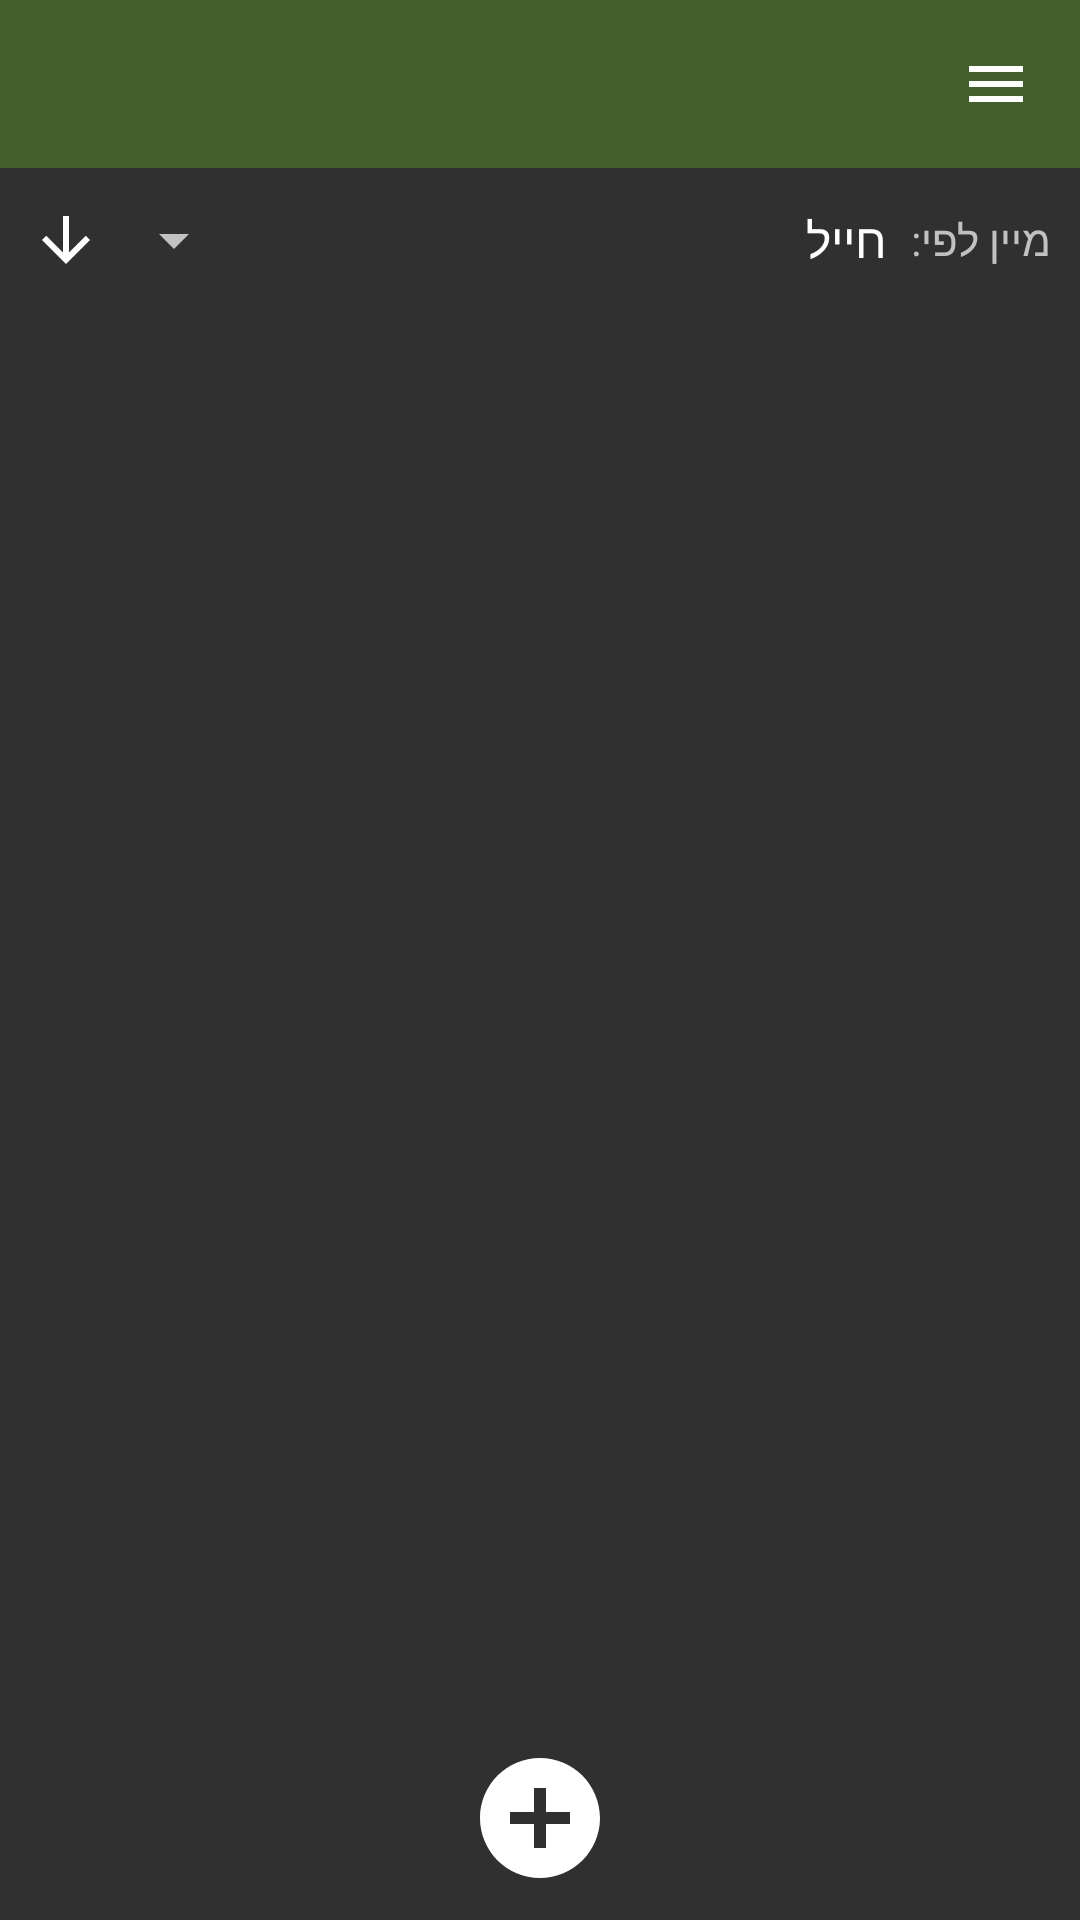

Named icons in this screenshot (1080 x 1920) and their centers, point (x, y):
add circle: point (540, 1818)
arrow downward: point (66, 240)
